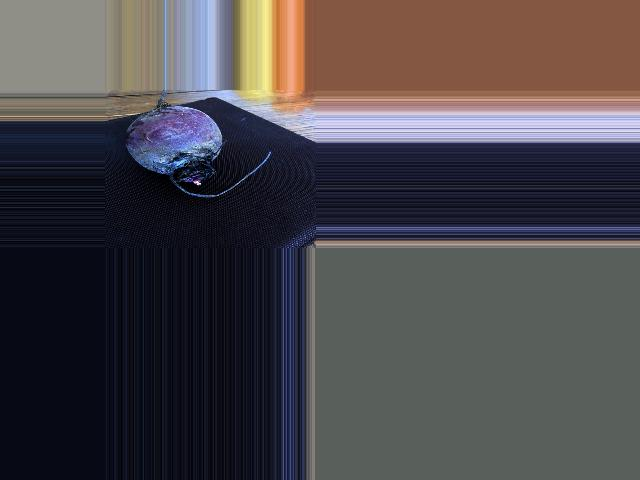beet: (124, 89, 271, 198)
